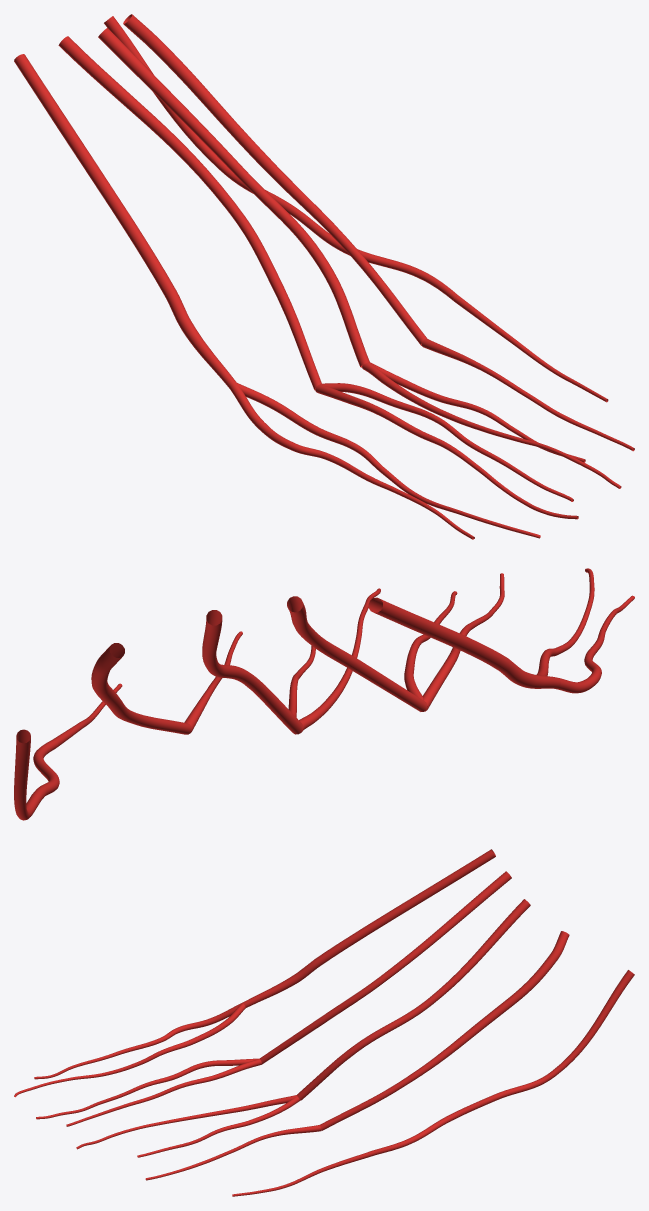
File: circulatorio-dorsal-metatarsal-veins-l.glb
The picture shows the model from 3 angles, top to bottom: view 1: azimuth 30°, elevation 25°; view 2: azimuth 150°, elevation 25°; view 3: azimuth 270°, elevation 25°; orthographic projection. The views are drawn at different scales.
Visible parts, largest first — view 1: Dorsal metatarsal veins.l, Dorsal digital veins of foot.l; view 2: Dorsal metatarsal veins.l, Dorsal digital veins of foot.l; view 3: Dorsal metatarsal veins.l, Dorsal digital veins of foot.l.
Part boxes in pixels (<box>): Dorsal metatarsal veins.l: <box>14,14,457,390</box>; Dorsal digital veins of foot.l: <box>230,295,634,539</box>; Dorsal metatarsal veins.l: <box>14,596,560,820</box>; Dorsal digital veins of foot.l: <box>52,568,634,747</box>; Dorsal metatarsal veins.l: <box>242,849,634,1154</box>; Dorsal digital veins of foot.l: <box>14,1002,374,1196</box>.
Bounding box in the file's own units: 0.069 × 0.05 × 0.1324.
